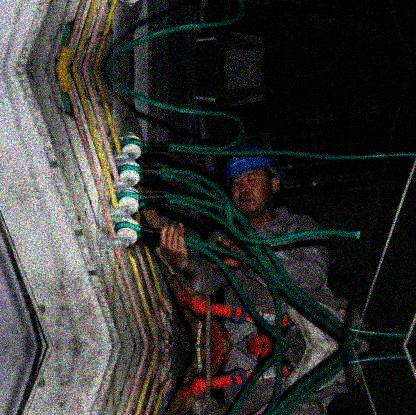helmet: (225, 144, 284, 215)
